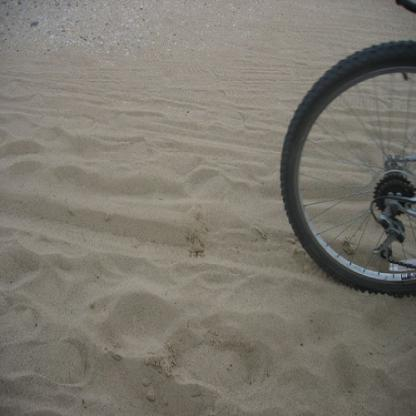bicycle: (278, 0, 415, 295)
